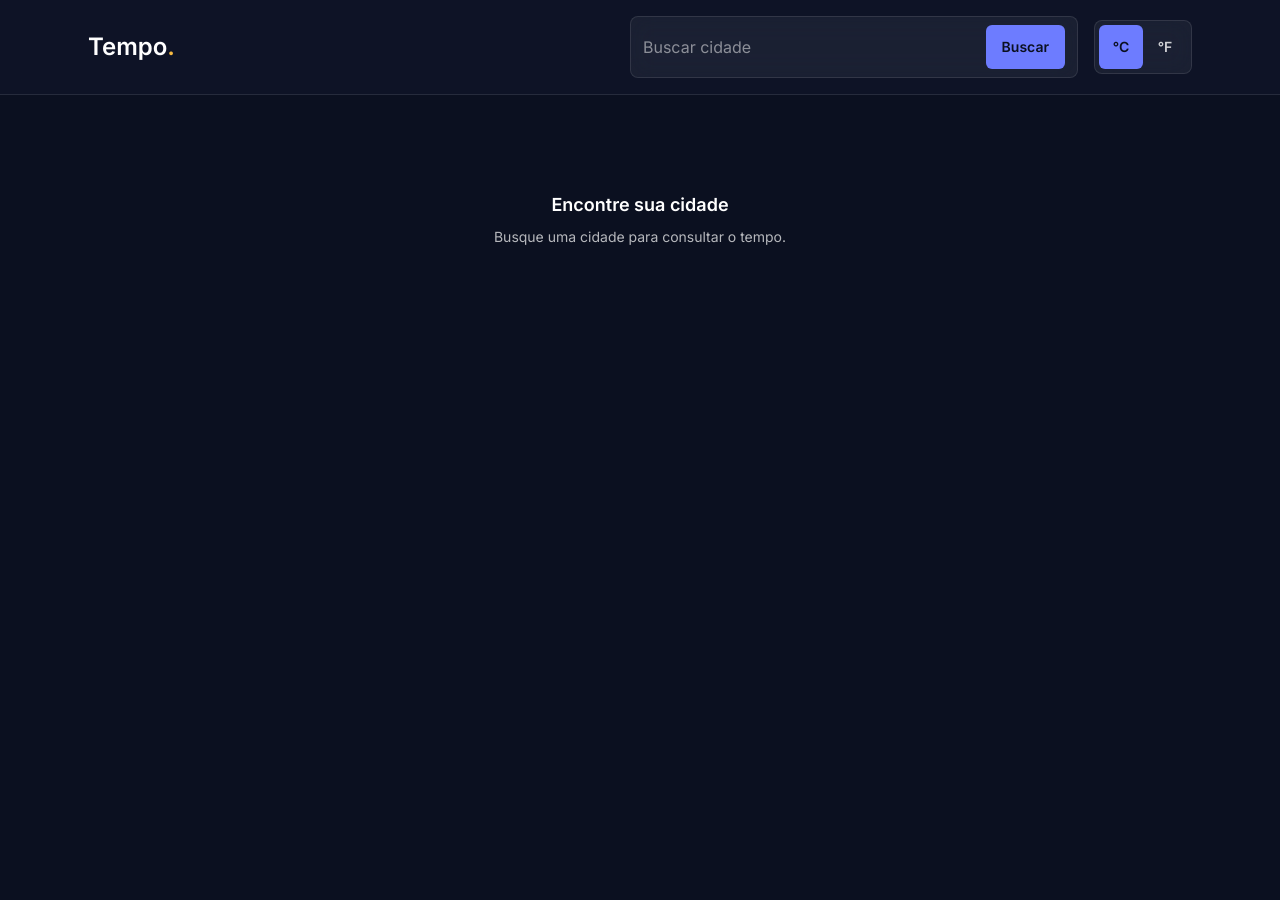
Test: App com Open-Meteo › busca a cidade, mostra clima e converte unidade sem recarregar
This screenshot has width=1280, height=900.
Check: the heading "Encontre sua cidade" is shown, box [552,191,729,219]
Type "Recife" into the search field labelled "Buscar cidade" at (810, 47), box [643,35,978,59]
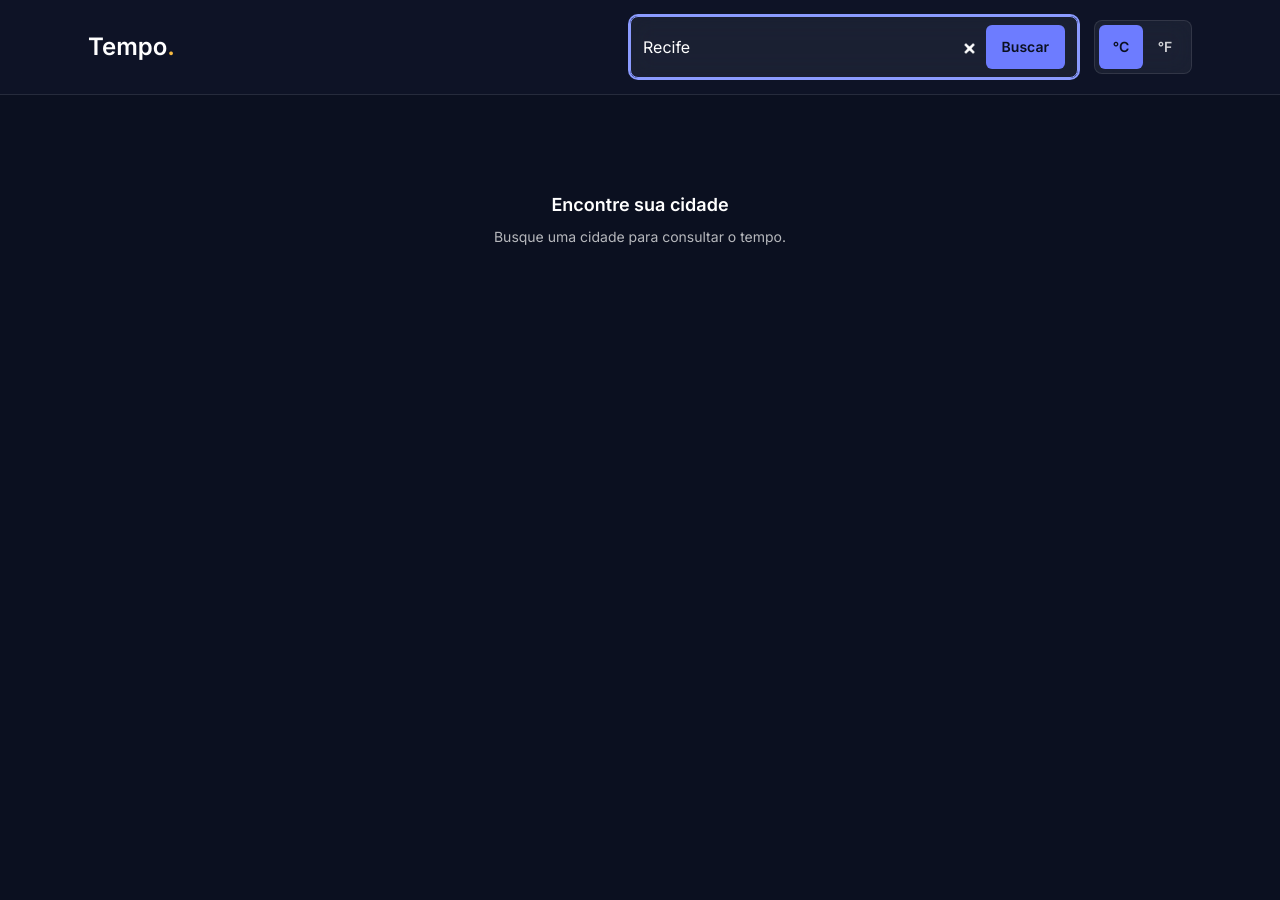
Click the button "Buscar" at (1025, 47), box [986,25,1065,69]
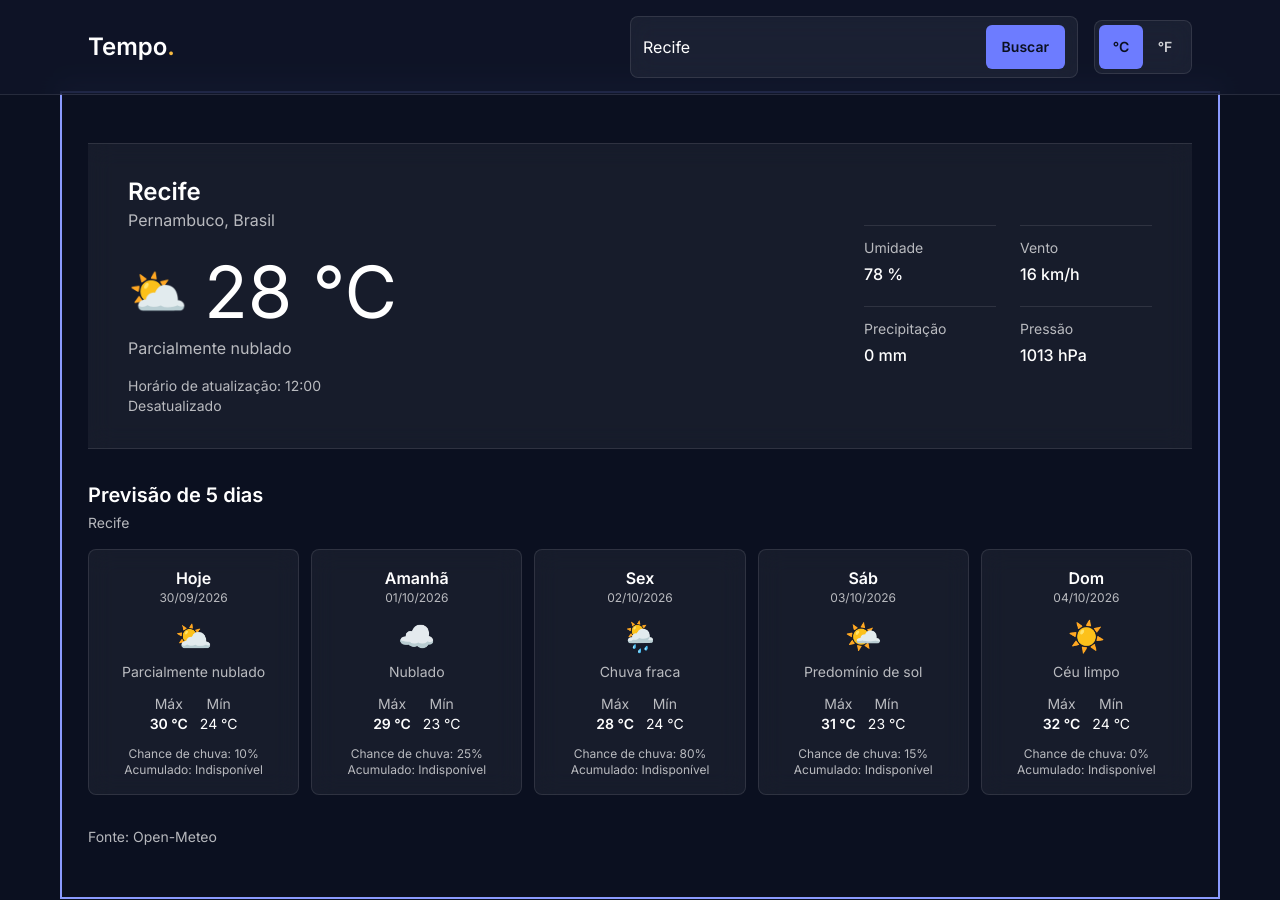
Check: the text "28 °C" below "Pernambuco, Brasil" is shown, box [204,248,397,335]
Check: the element "Previsão de 5 dias" is shown, box [88,481,1192,795]
Check: the text "Fonte: Open-Meteo" is shown, box [88,828,217,845]
Click the button named "Fahrenheit (°F)" at (1165, 47), box [1143,25,1187,69]
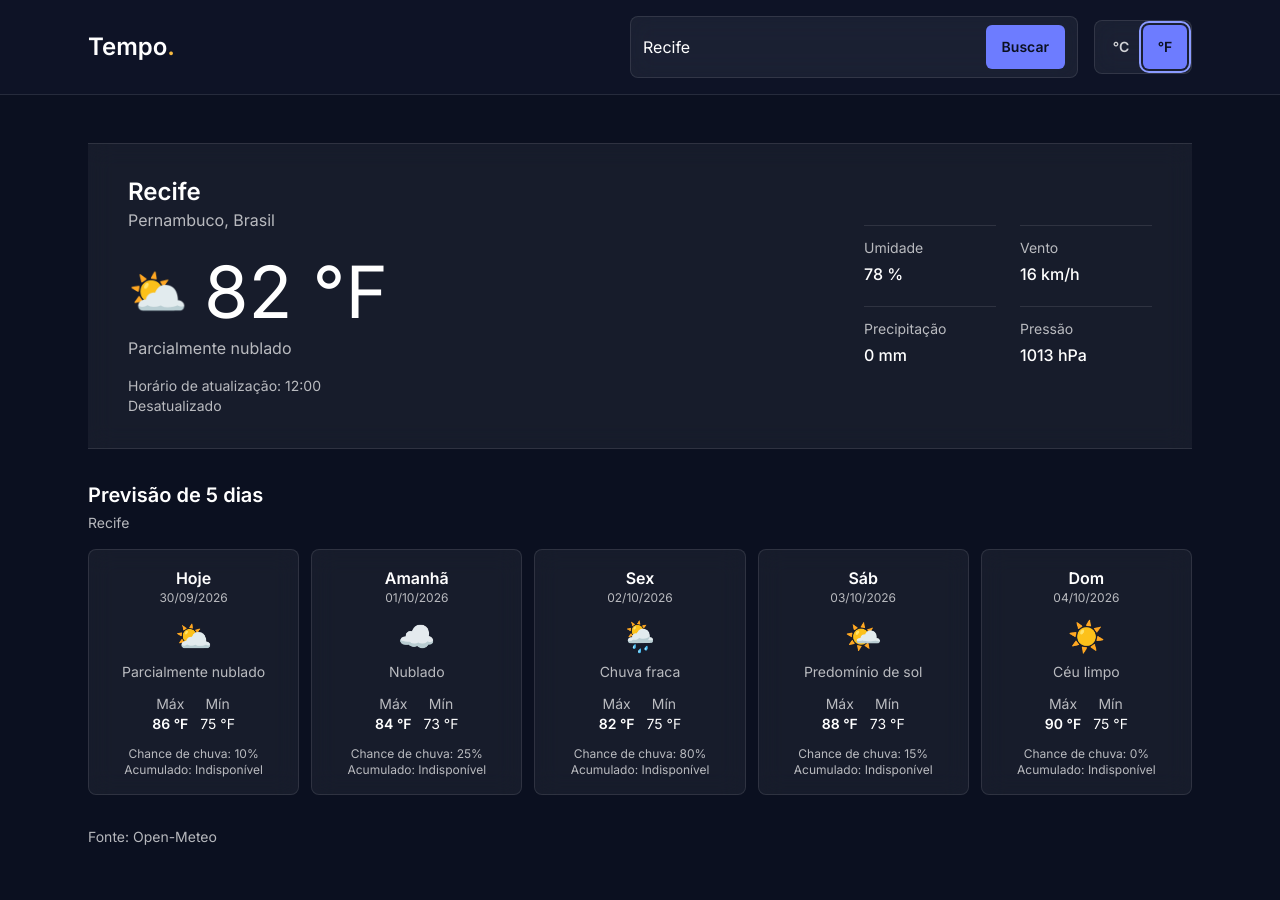
Check: the message "Encontre sua cidade Busque uma cidade para consultar o tempo." is not shown
Check: the text "82 °F" below "Pernambuco, Brasil" is shown, box [204,248,388,335]
